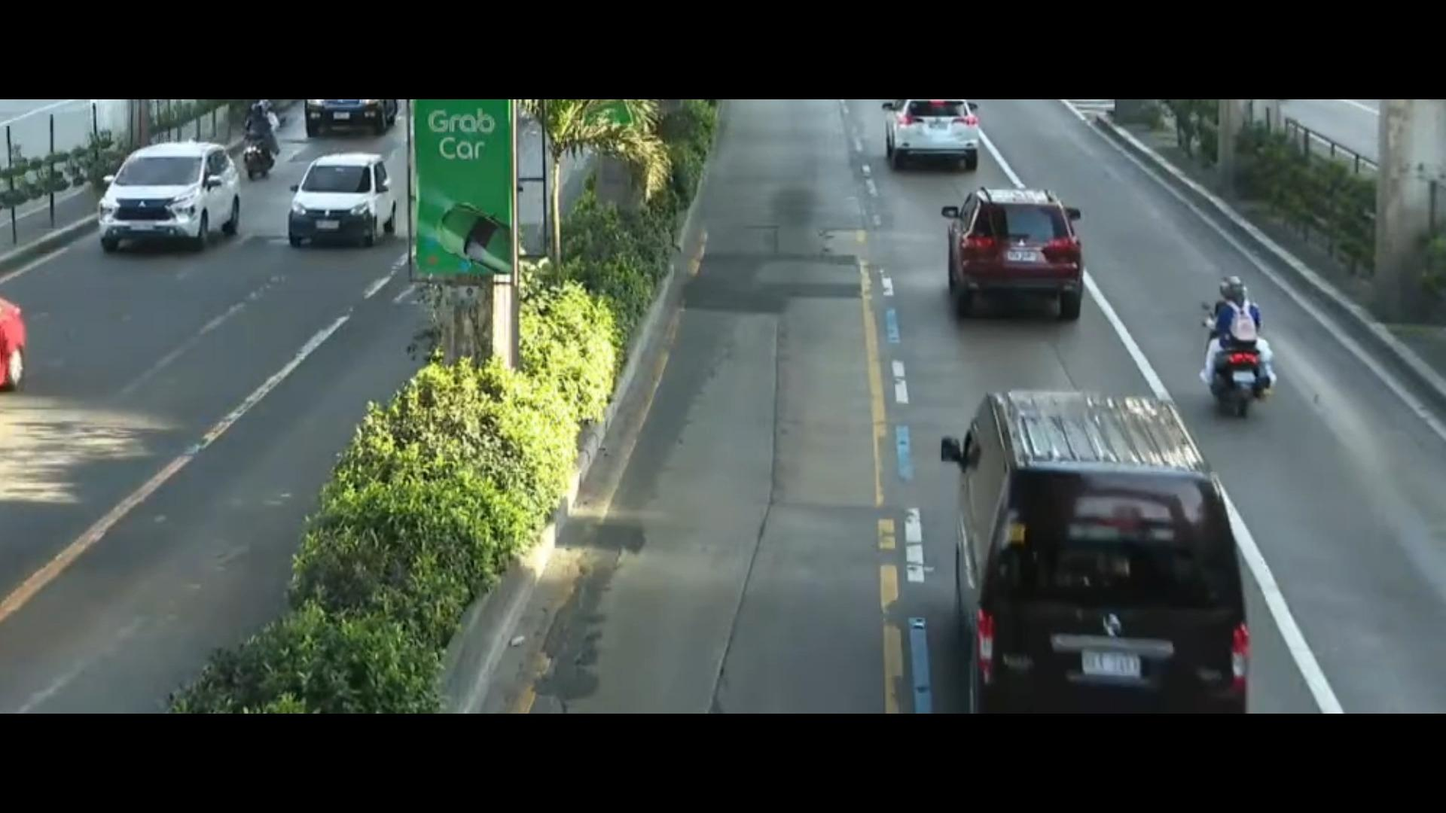Motorcycle: (1204, 269, 1284, 405), (236, 90, 284, 185)
SUV: (932, 176, 1114, 318), (81, 138, 249, 268), (888, 98, 1010, 187)
Sedan: (275, 145, 406, 274)
Van: (932, 339, 1265, 717)
